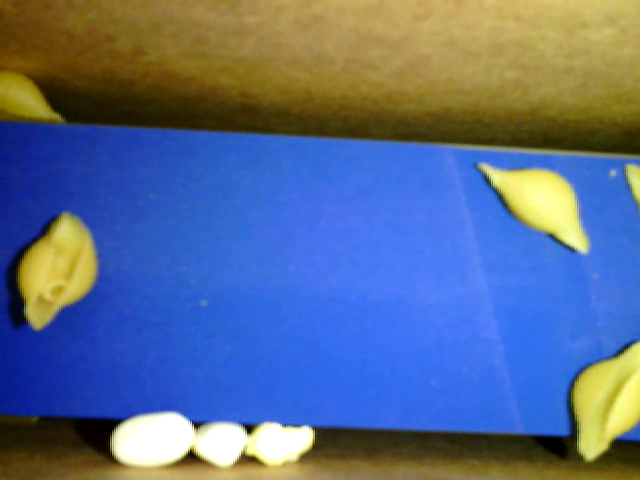elbow: (43, 212, 82, 299)
shell: (474, 162, 594, 255), (20, 210, 100, 329), (569, 337, 639, 464), (3, 66, 66, 125)
